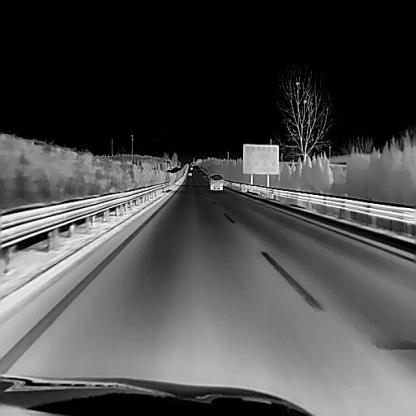truck: (207, 172, 224, 190)
